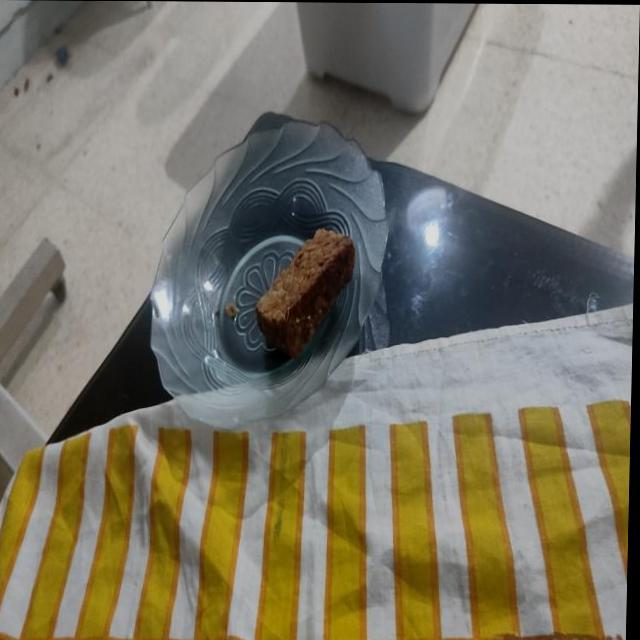tempe_goreng: (256, 229, 355, 358)
